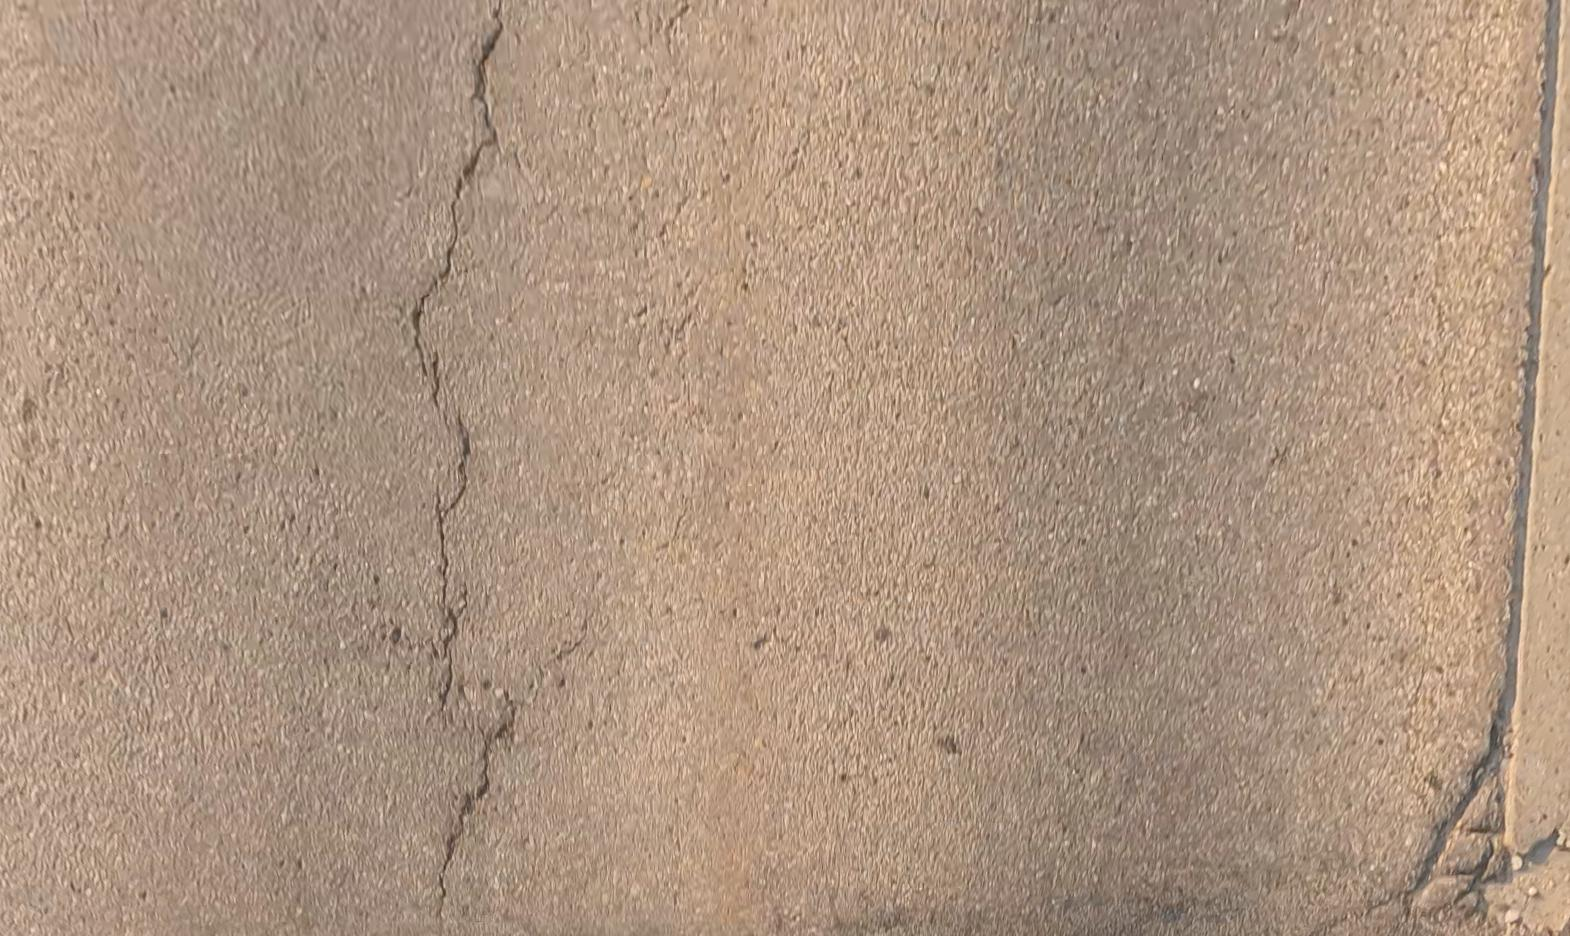pothole: (1412, 737, 1570, 936)
